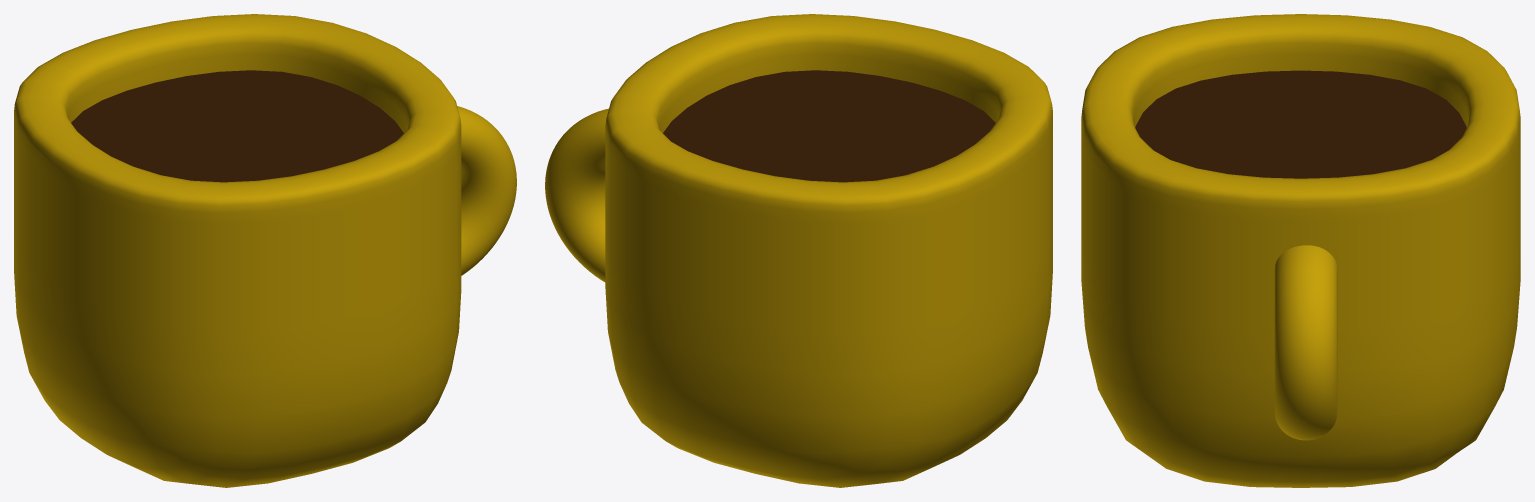
The model's file is coffee.glb.
3 views of the same model, side by side, from view 1: azimuth 30°, elevation 25°; view 2: azimuth 150°, elevation 25°; view 3: azimuth 270°, elevation 25° (orthographic). The views are drawn at different scales.
Parts seen in each view (by area): view 1: bodycup, coffe, handle; view 2: bodycup, coffe, handle; view 3: bodycup, coffe, handle.
Boxes of the visible parts, box(x1,y1,x2,y2) form: bodycup: box(14, 14, 461, 487); coffe: box(71, 70, 403, 182); handle: box(457, 106, 516, 275); bodycup: box(605, 14, 1052, 487); coffe: box(663, 70, 995, 182); handle: box(545, 108, 608, 282); bodycup: box(1081, 14, 1520, 487); coffe: box(1135, 70, 1466, 178); handle: box(1274, 245, 1337, 440).
Size of the model in its own units: 0.879 by 0.5969 by 0.7065.
